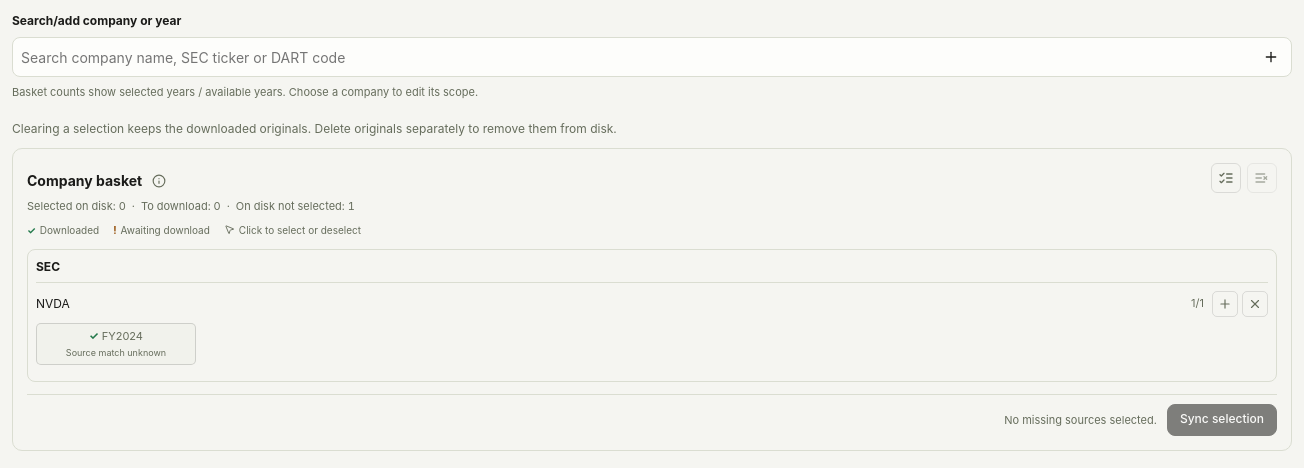
Test case: company and year source matrix › separates unknown ingestion from downloaded-source availability
The width and height of the screenshot is (1304, 468).
Expected: the text "Source match unknown" is shown, [66,347,166,358]
Click the button with aria-label "NVDA FY2024 · On disk". click: (116, 344)
box: [36,323,196,365]
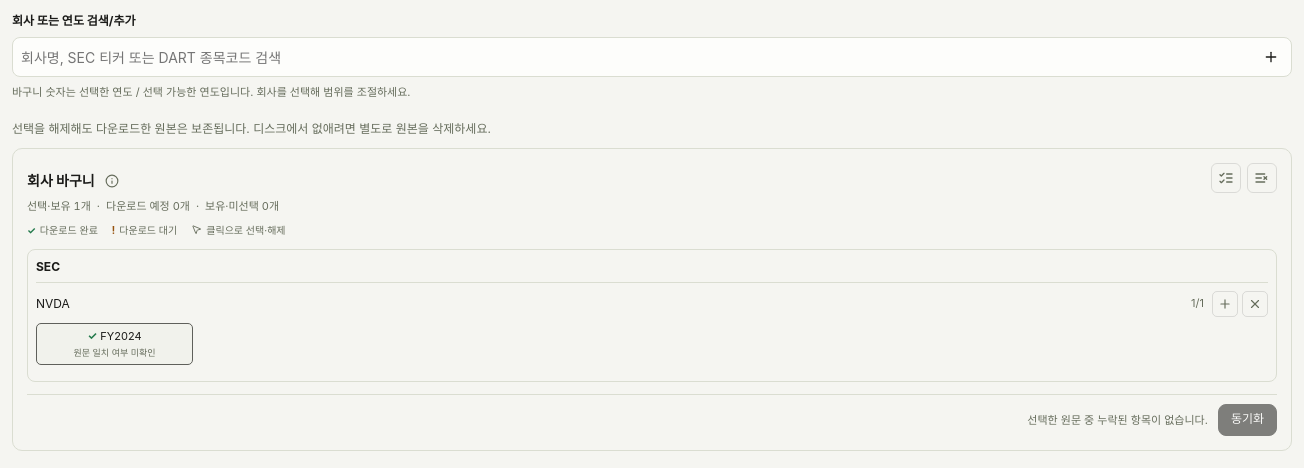
Expected: the text "원문 일치 여부 미확인" is shown, [74,347,156,358]
